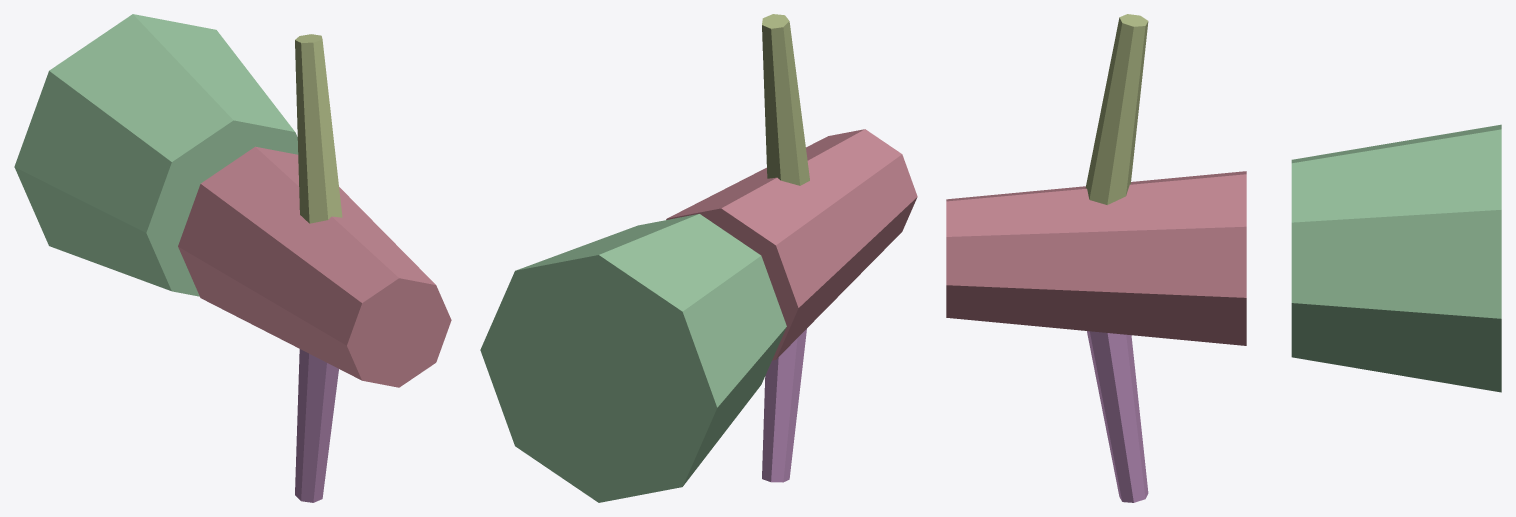
3 views of the same model, side by side, from view 1: azimuth 30°, elevation 25°; view 2: azimuth 150°, elevation 25°; view 3: azimuth 270°, elevation 25° (orthographic). The views are drawn at different scales.
Parts seen in each view (by area): view 1: part0, part1, part3, part4; view 2: part0, part1, part3, part4; view 3: part0, part1, part3, part4.
Part boxes in pixels (x1,y1,x2,y2): part0: [14, 14, 298, 296]; part1: [178, 146, 451, 387]; part3: [295, 34, 342, 223]; part4: [295, 349, 338, 502]; part0: [480, 214, 786, 502]; part1: [666, 129, 917, 360]; part3: [762, 14, 809, 185]; part4: [762, 329, 806, 482]; part0: [1291, 124, 1501, 392]; part1: [946, 171, 1246, 345]; part3: [1085, 14, 1148, 204]; part4: [1087, 331, 1148, 502].
Size of the model in its own units: 1.9 by 3.53 by 3.7.
